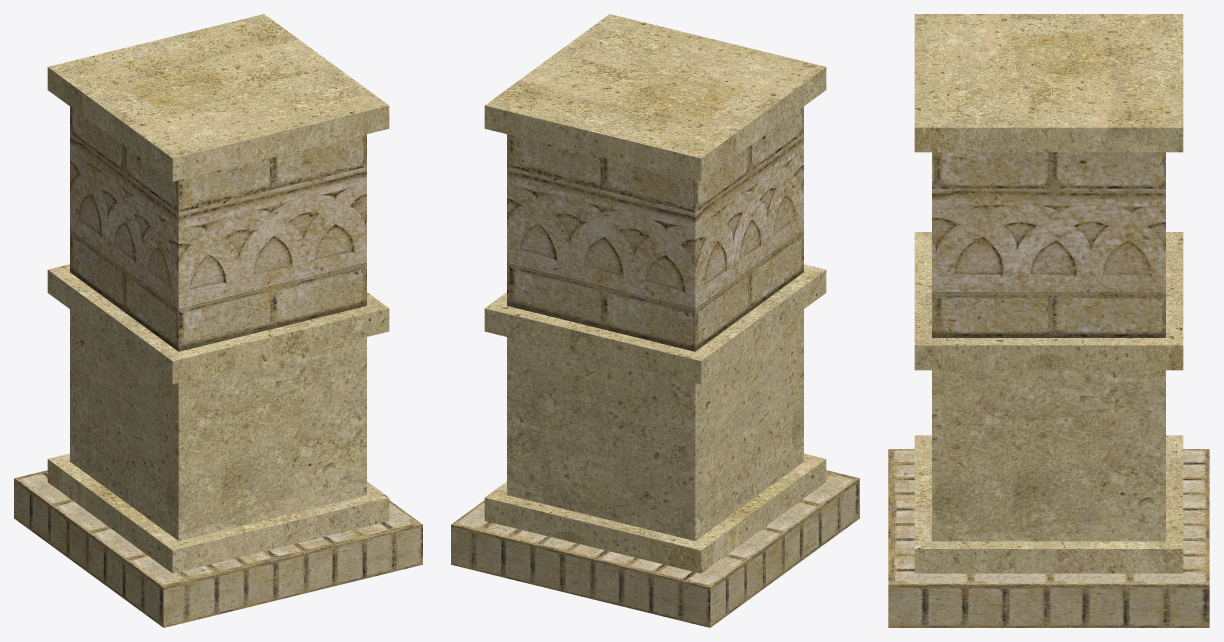
File: tutorial_structure_pillar_ornament.dae
3 views of the same model, side by side, from view 1: azimuth 30°, elevation 25°; view 2: azimuth 150°, elevation 25°; view 3: azimuth 270°, elevation 25° (orthographic). The views are drawn at different scales.
Visible parts, largest first — view 1: tutorial_structure_pillar_ornament; view 2: tutorial_structure_pillar_ornament; view 3: tutorial_structure_pillar_ornament.
Part boxes in pixels (x1=…): tutorial_structure_pillar_ornament: x1=14, y1=14, x2=422, y2=627; tutorial_structure_pillar_ornament: x1=451, y1=14, x2=859, y2=627; tutorial_structure_pillar_ornament: x1=888, y1=14, x2=1209, y2=627.
Bounding box in the file's own units: 2.41 × 2.41 × 4.04.
Materials: 4 (4 with a texture image).
